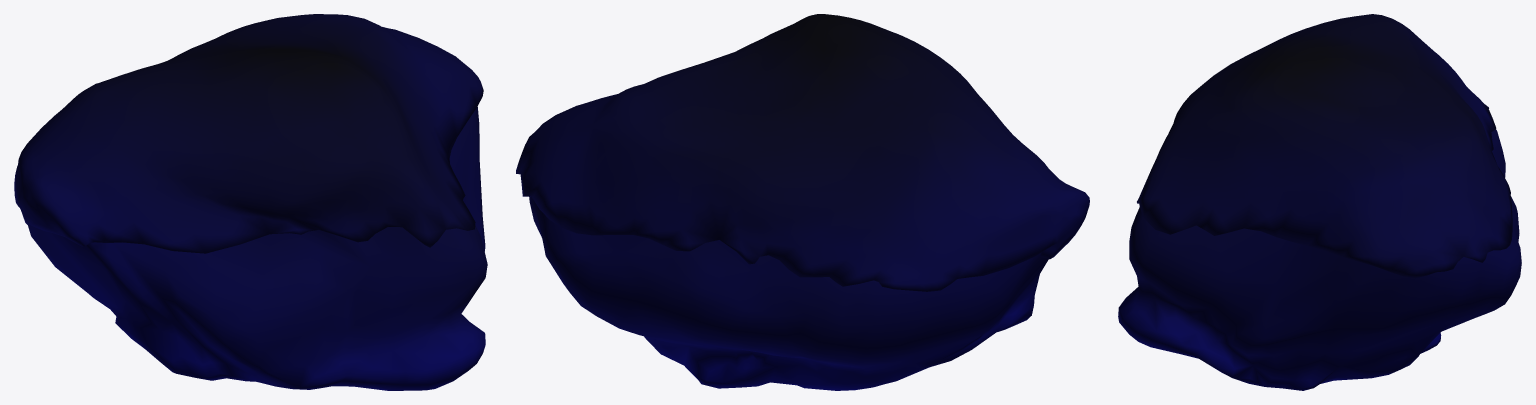
The model's file is bush_01.fbx.
3 renders of one model, left to right at view 1: azimuth 30°, elevation 25°; view 2: azimuth 150°, elevation 25°; view 3: azimuth 270°, elevation 25°, orthographic. The views are drawn at different scales.
Visible parts, largest first — view 1: bush_01; view 2: bush_01; view 3: bush_01.
Boxes of the visible parts, <box> form: bush_01: <box>14,14,487,390</box>; bush_01: <box>516,14,1089,390</box>; bush_01: <box>1118,14,1521,390</box>.
Size of the model in its own units: 1.74 by 1.05 by 1.39.
